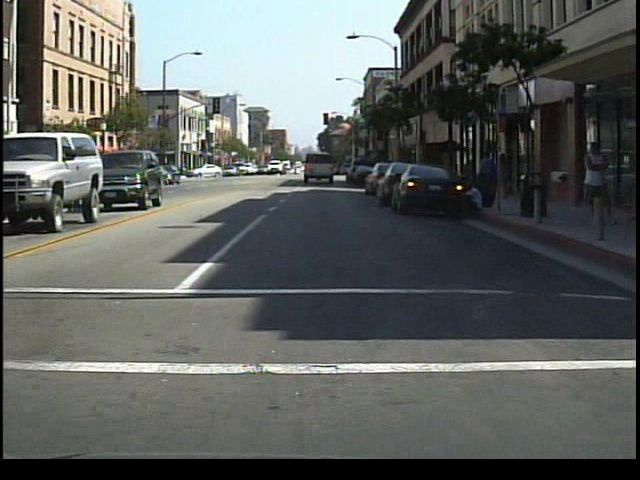person: (579, 126, 614, 232), (494, 149, 517, 208), (477, 142, 499, 202)
